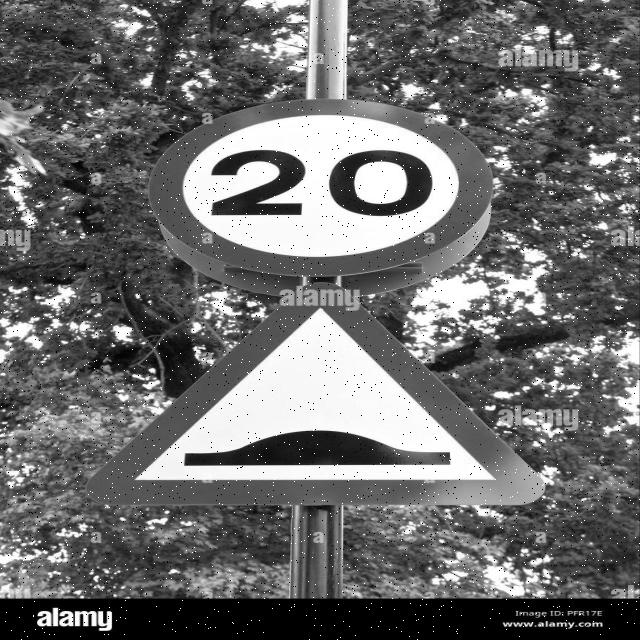Bump: (82, 282, 536, 514)
speedlimit_20: (156, 100, 480, 280)
